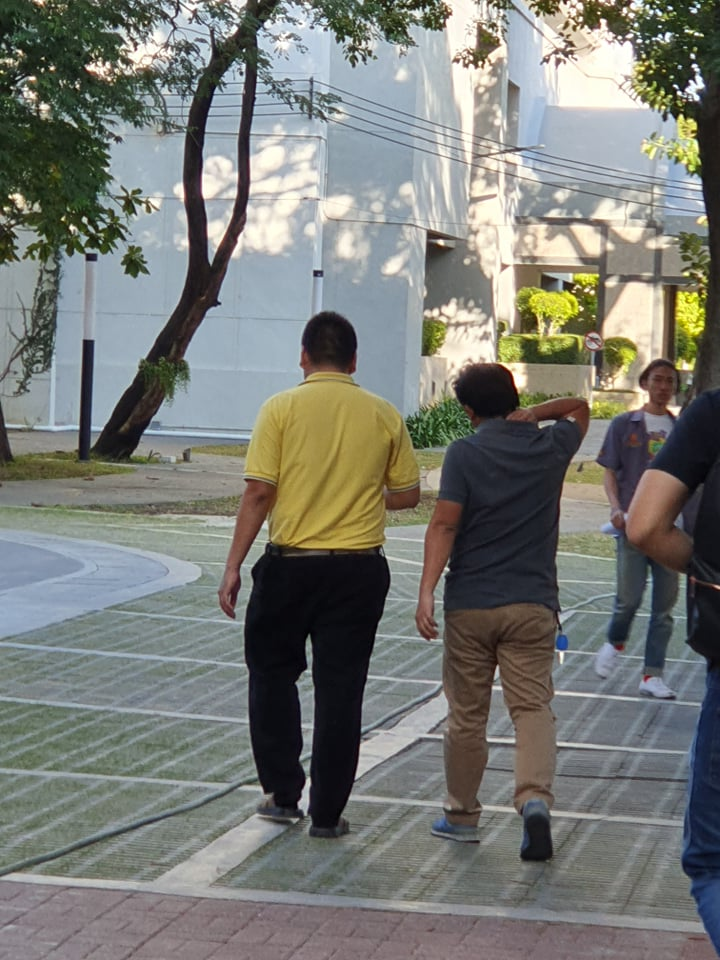single: (215, 280, 599, 875)
